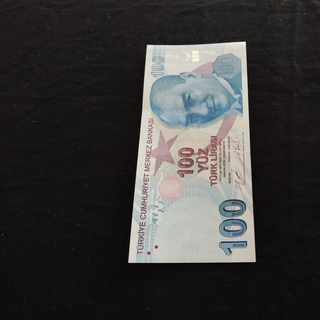100TLFront: (127, 40, 257, 265)
